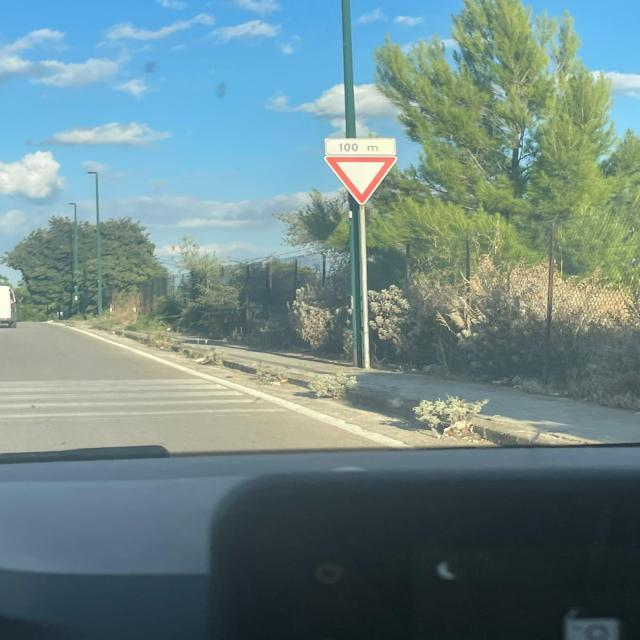prio_give_way: (323, 155, 399, 207)
